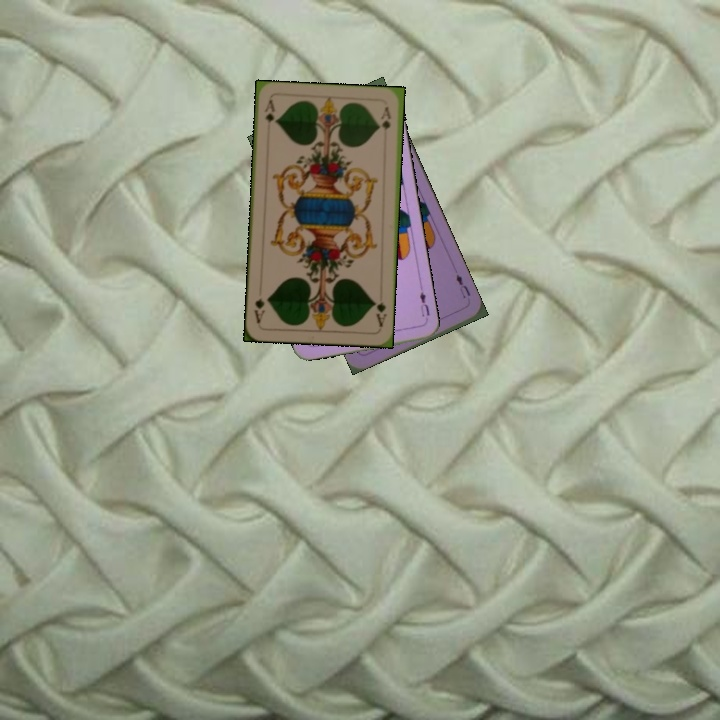EU: (452, 270, 473, 301), (416, 284, 432, 324)
GA: (261, 96, 278, 137), (370, 297, 389, 329)
